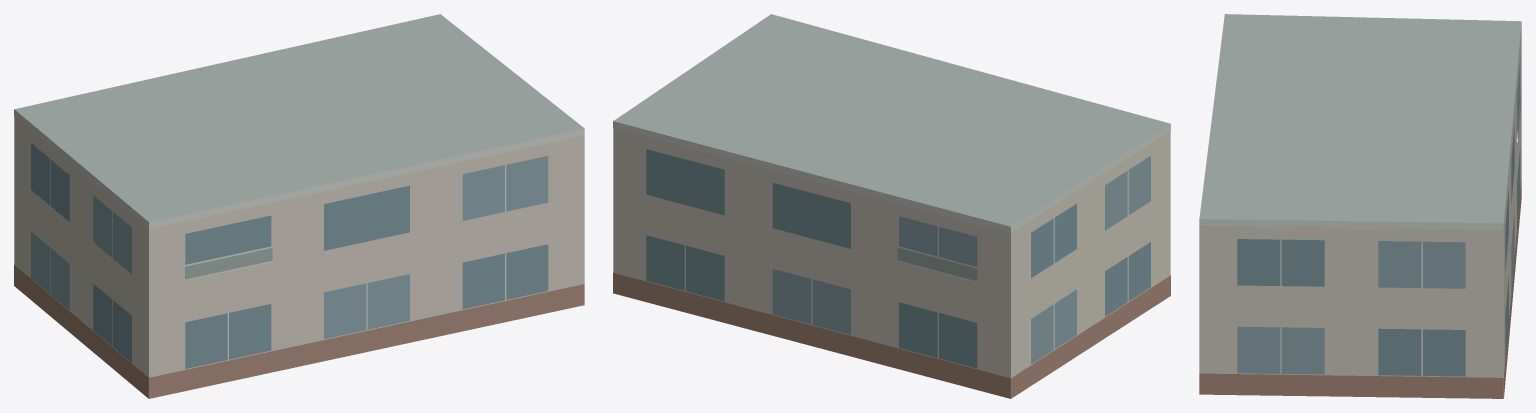
File: survey-upis-32856999.glb
3 views of the same model, side by side, from view 1: azimuth 30°, elevation 25°; view 2: azimuth 150°, elevation 25°; view 3: azimuth 270°, elevation 25° (orthographic). The views are drawn at different scales.
Visible parts, largest first — view 1: survey-upis-32856999.tmp; view 2: survey-upis-32856999.tmp; view 3: survey-upis-32856999.tmp.
Boxes of the visible parts, <box> form: survey-upis-32856999.tmp: <box>14,14,584,398</box>; survey-upis-32856999.tmp: <box>613,14,1170,398</box>; survey-upis-32856999.tmp: <box>1199,14,1521,398</box>.
Size of the model in its own units: 15.62 by 6.1 by 10.16.
